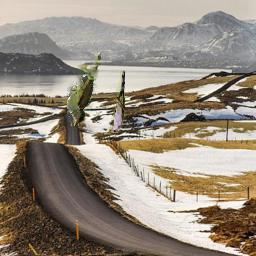Cuckoo: (67, 52, 101, 126), (109, 71, 125, 134)
